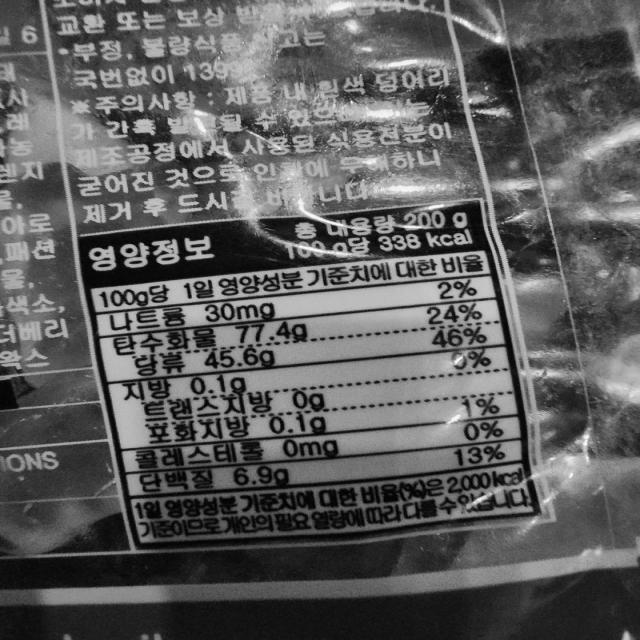Nutrition Label: (72, 203, 562, 547)
